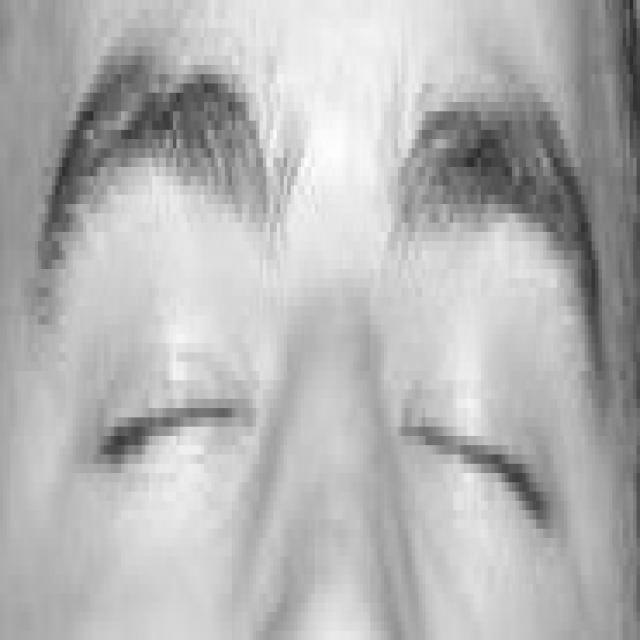real: (62, 190, 604, 578)
